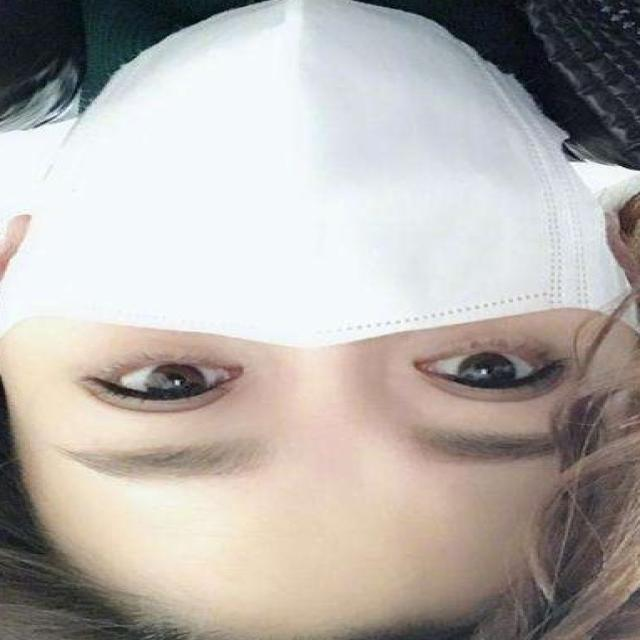Mask: (22, 19, 624, 363)
